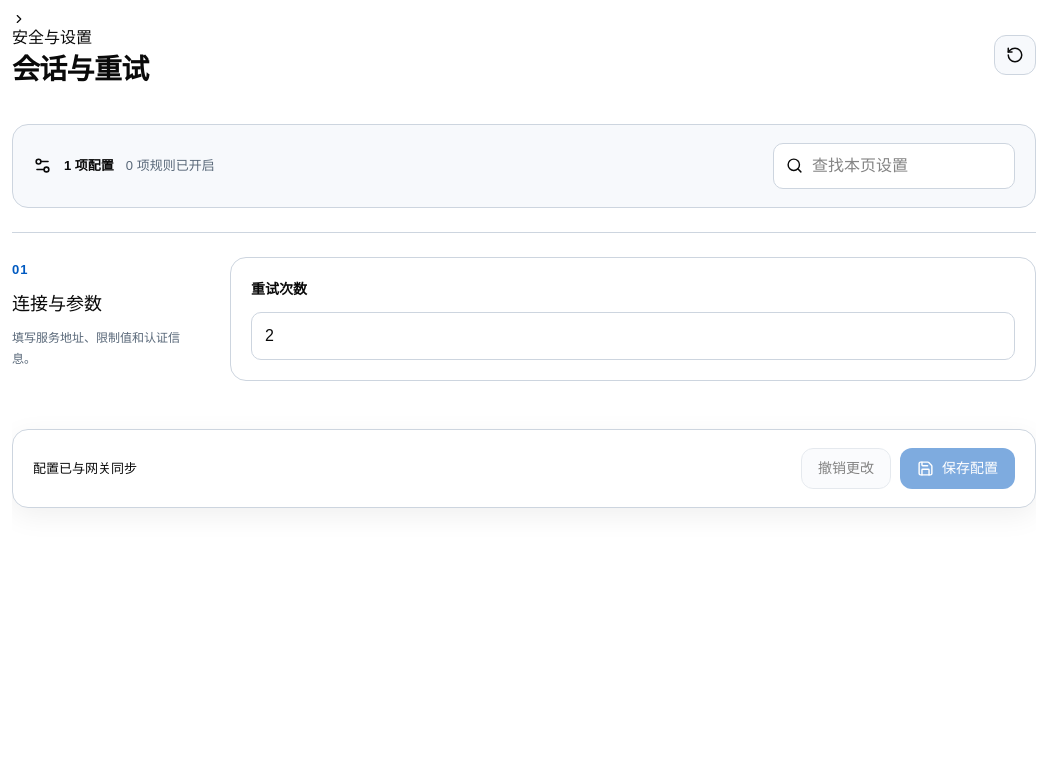
it: further-api settings workspace › submits policy changes as one operation and retains unrelated server options
Replace the text in the number field labelled "重试次数" with "3" at (633, 336), box [251,312,1015,360]
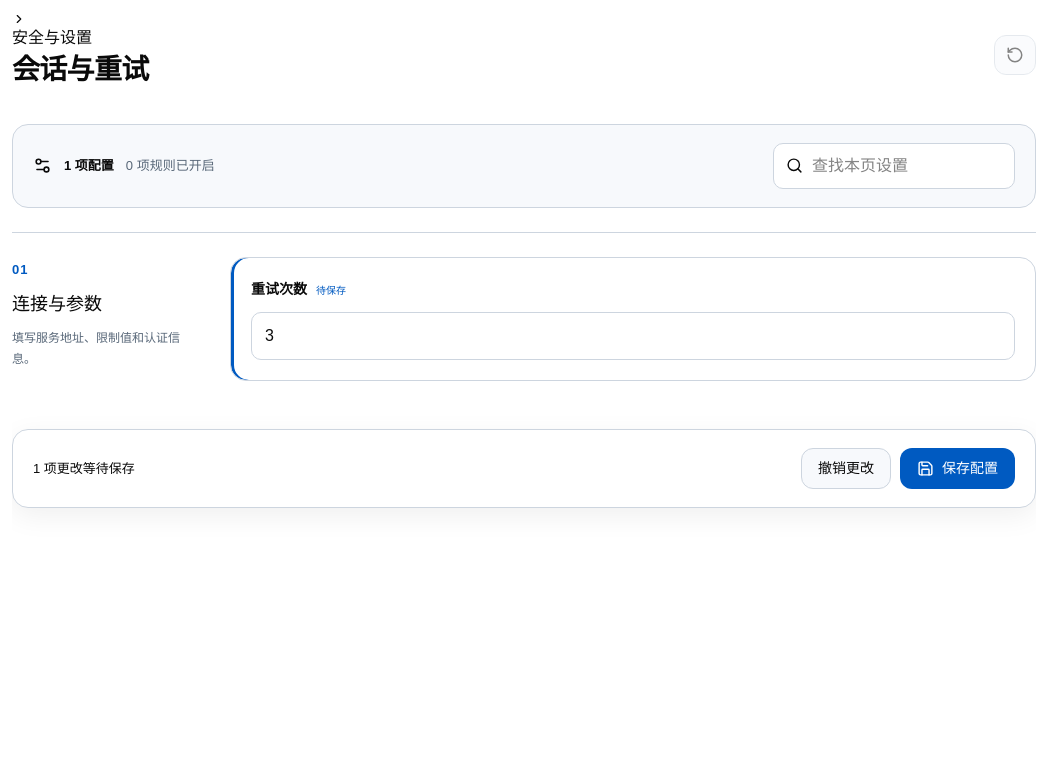
Click the button "保存配置" at (958, 468), box [900,448,1015,489]
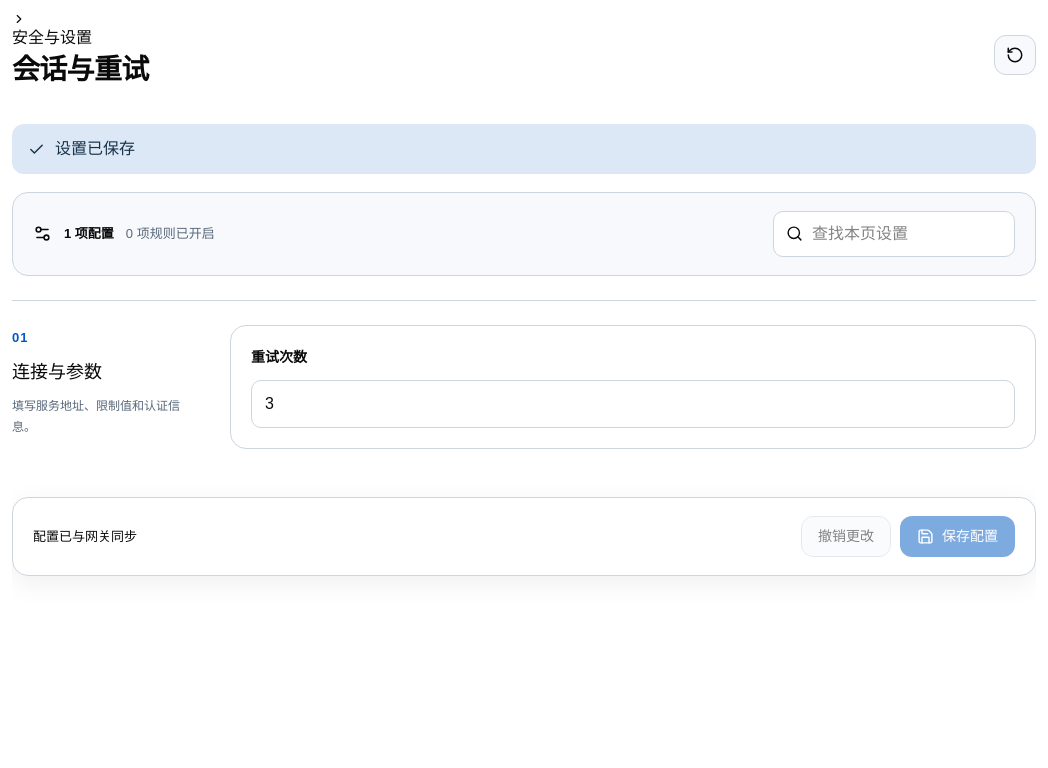
expect the text "设置已保存" is shown: met, box [12,124,1036,174]
